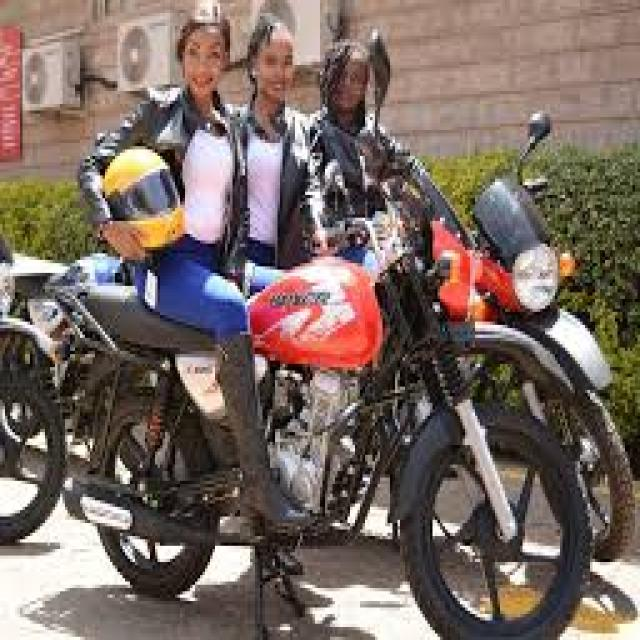bodaboda: (14, 75, 616, 640)
